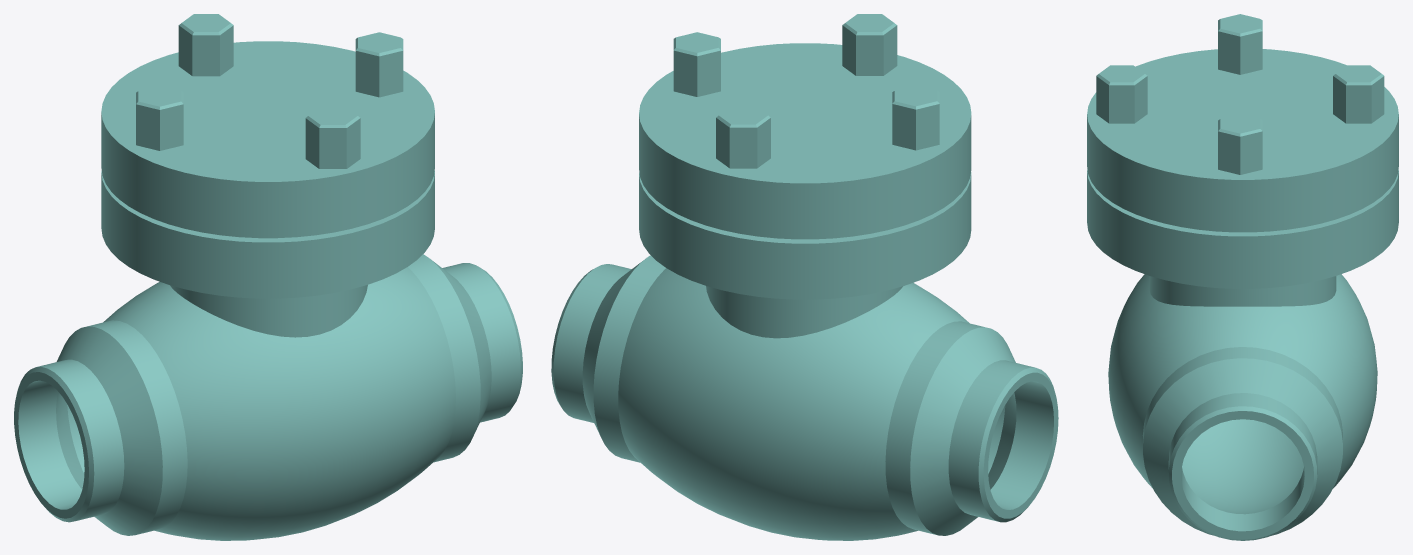
File: 止回阀.obj
3 renders of one model, left to right at view 1: azimuth 30°, elevation 25°; view 2: azimuth 150°, elevation 25°; view 3: azimuth 270°, elevation 25°, orthographic. The views are drawn at different scales.
Visible parts, largest first — view 1: BRep_1; view 2: BRep_1; view 3: BRep_1.
Part boxes in pixels (x1=…): BRep_1: x1=14, y1=14, x2=522, y2=540; BRep_1: x1=551, y1=14, x2=1058, y2=540; BRep_1: x1=1087, y1=14, x2=1398, y2=540.
Bounding box in the file's own units: 105 × 105 × 70.
